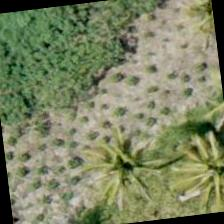Kelapa_Sawit: (74, 116, 174, 216), (162, 124, 223, 217)
